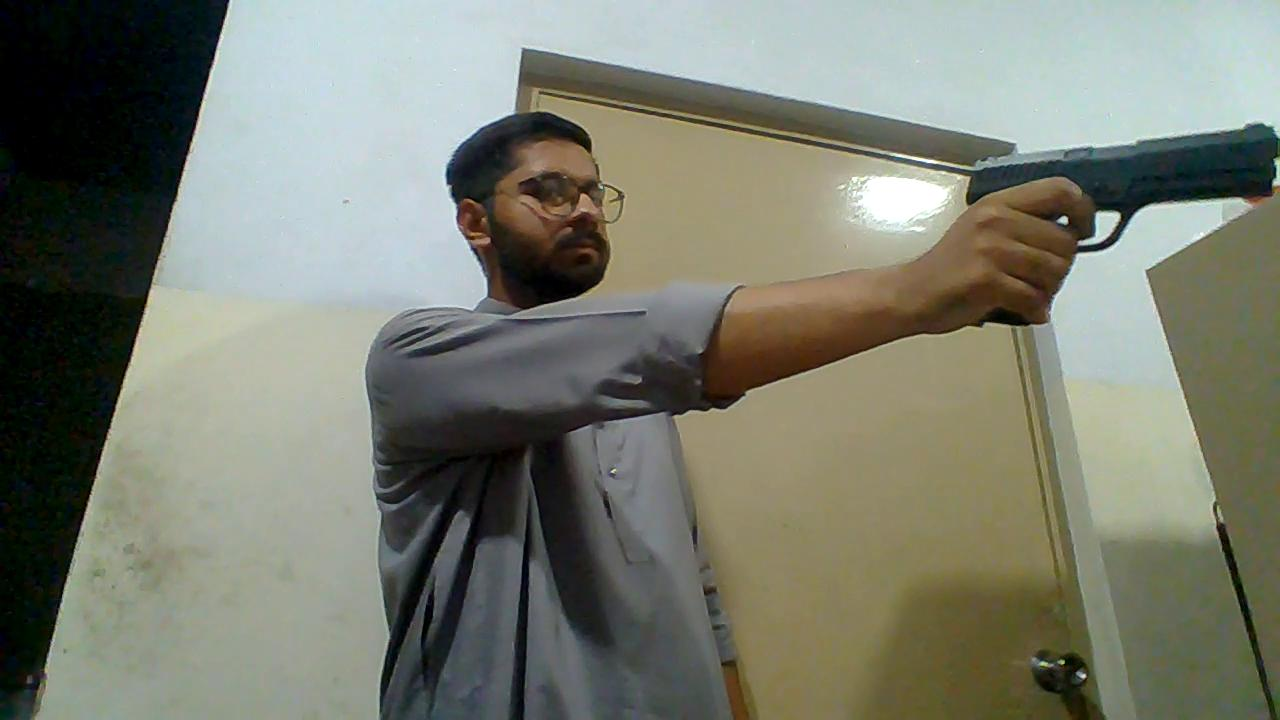criminal: (364, 109, 1280, 720)
weapon: (964, 122, 1280, 328)
